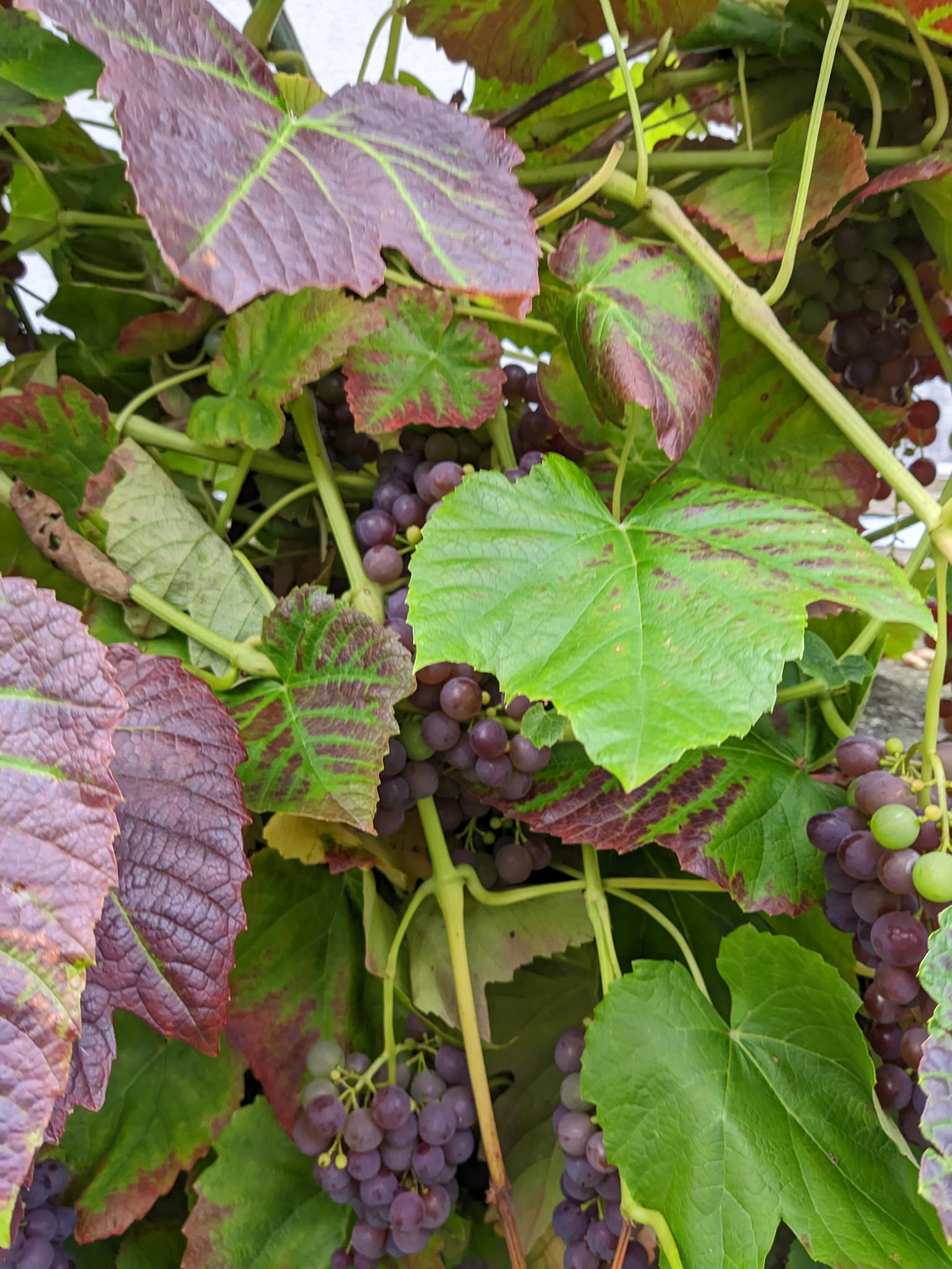Grape Ripe: (357, 427, 552, 889), (806, 718, 950, 1138), (289, 999, 484, 1265), (797, 210, 952, 500), (549, 1029, 652, 1269), (0, 1160, 79, 1269)
